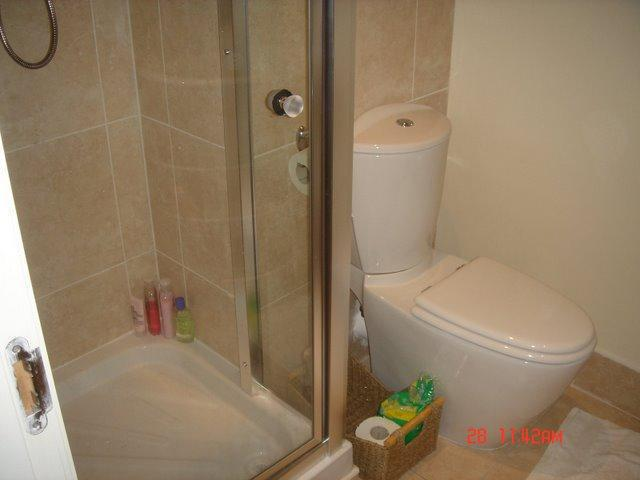Ducha: (0, 9, 332, 479)
Otro Obstaculo: (308, 363, 448, 475)
Sanitario: (313, 102, 598, 452)
